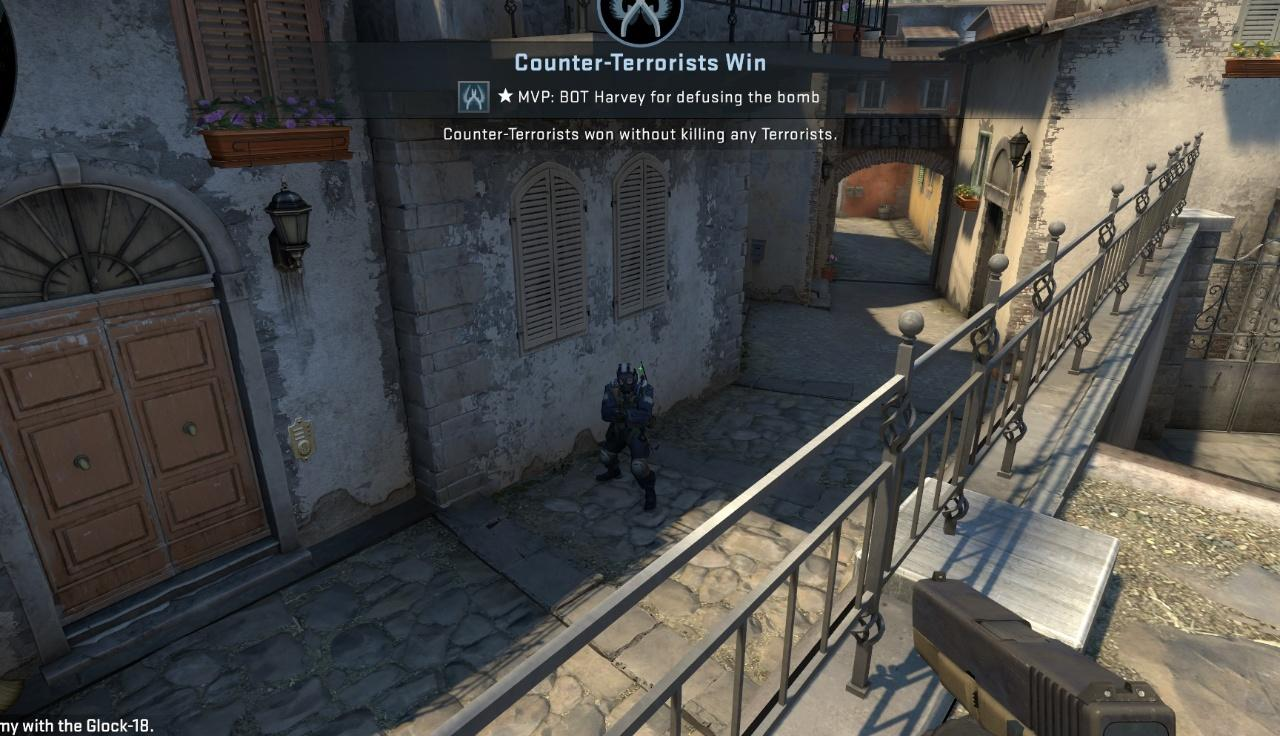ct: (597, 363, 659, 510)
cthead: (616, 363, 637, 394)
pistol: (910, 569, 1187, 736)
